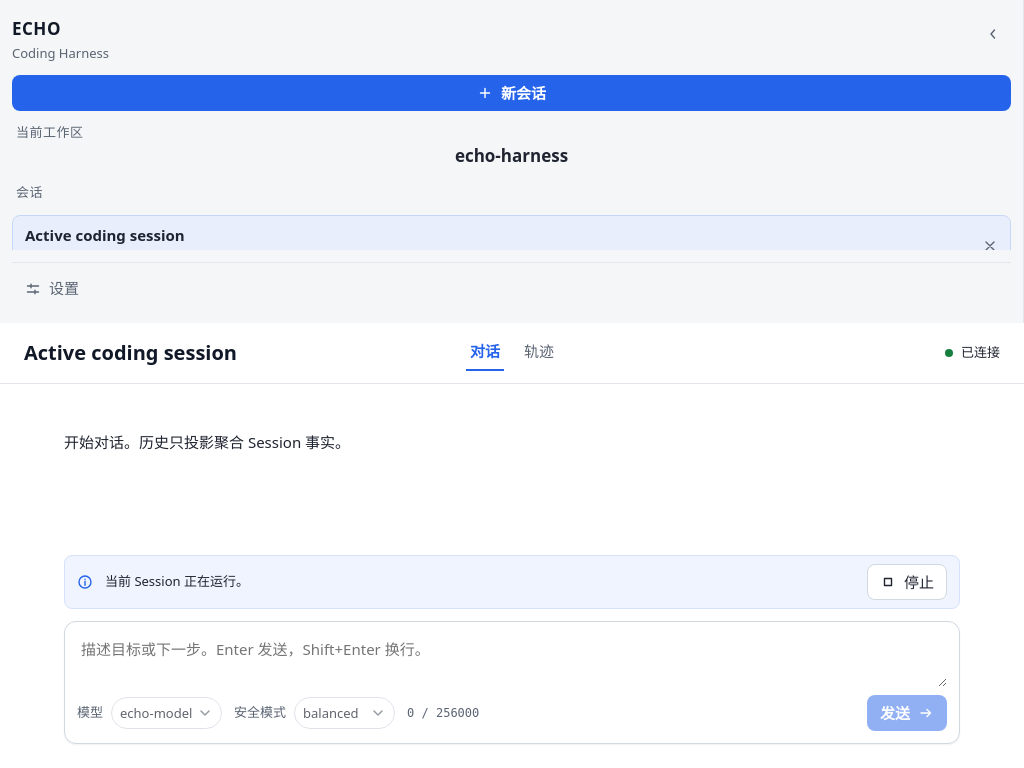
Test: Provider settings modal › closes the modal with Escape without cancelling an active Turn
Step 1. Click the button "设置" → (64, 288), box [12,270,1011,306]
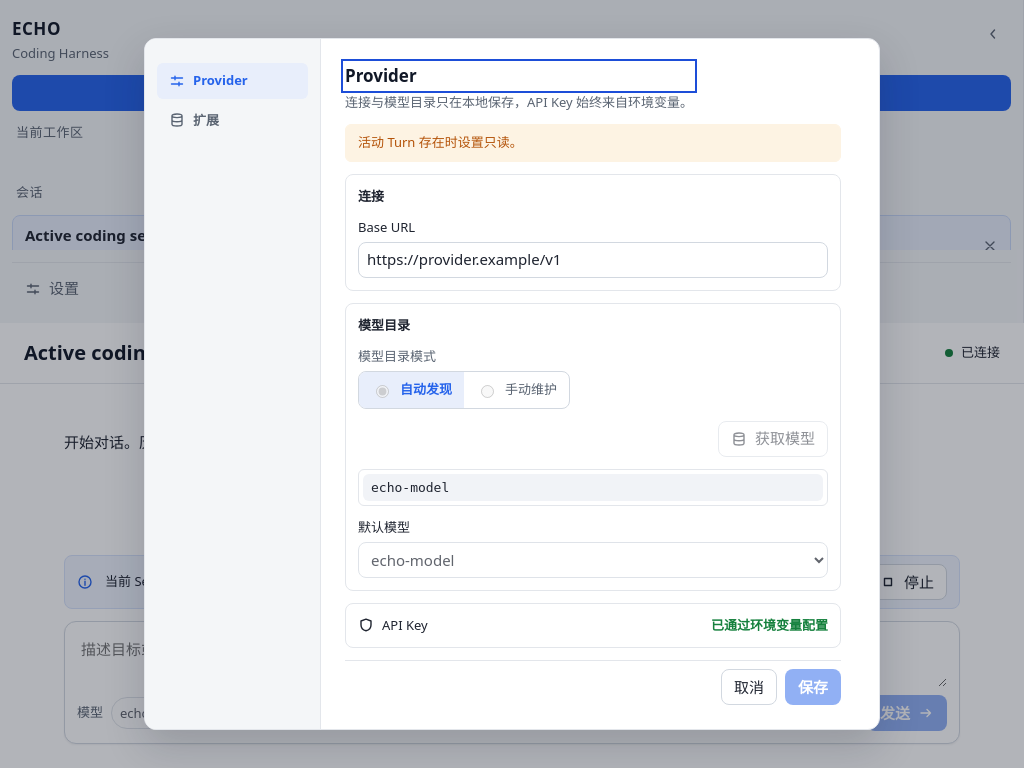
Step 2. Press Escape
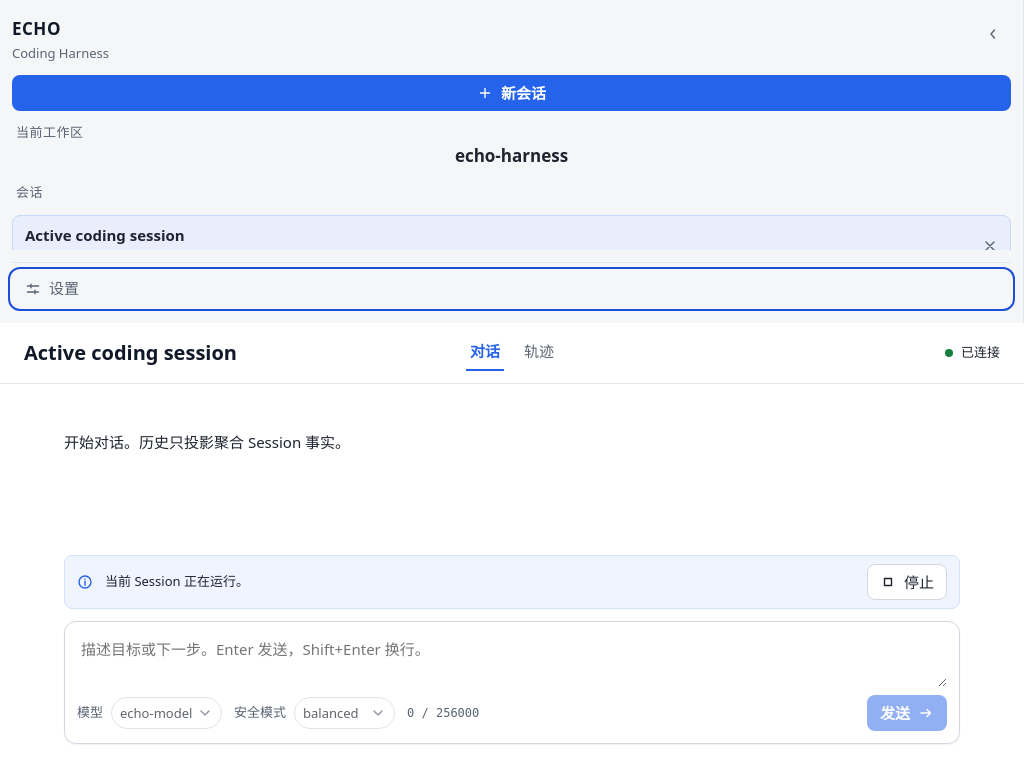
Expected: the button "停止" is shown, [867,564,947,600]
Result: the dialog is gone
